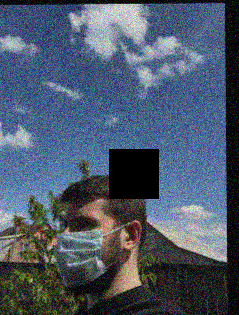with_mask: (54, 208, 108, 291)
